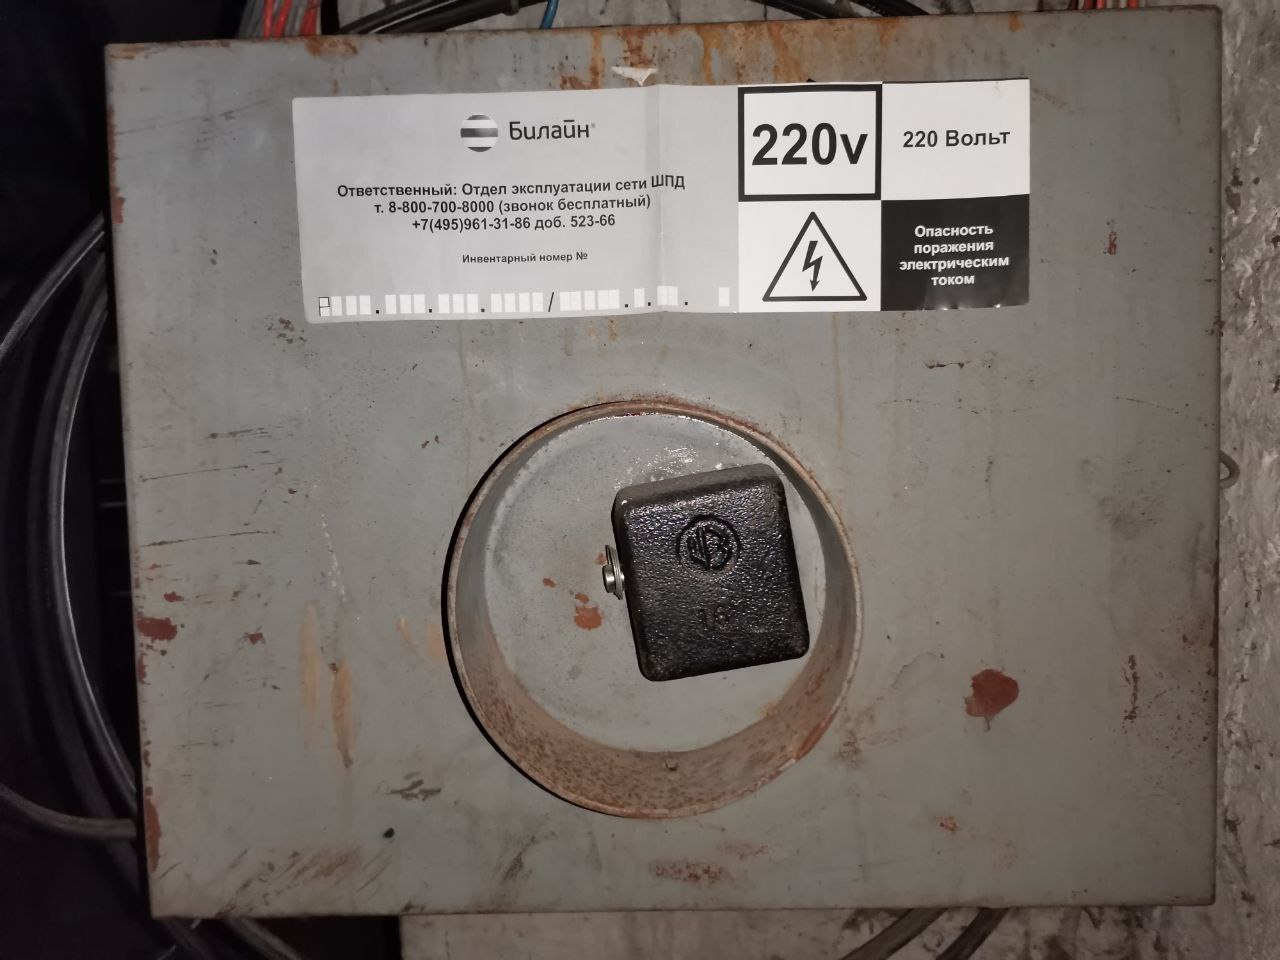shta-3: (98, 3, 1222, 923)
